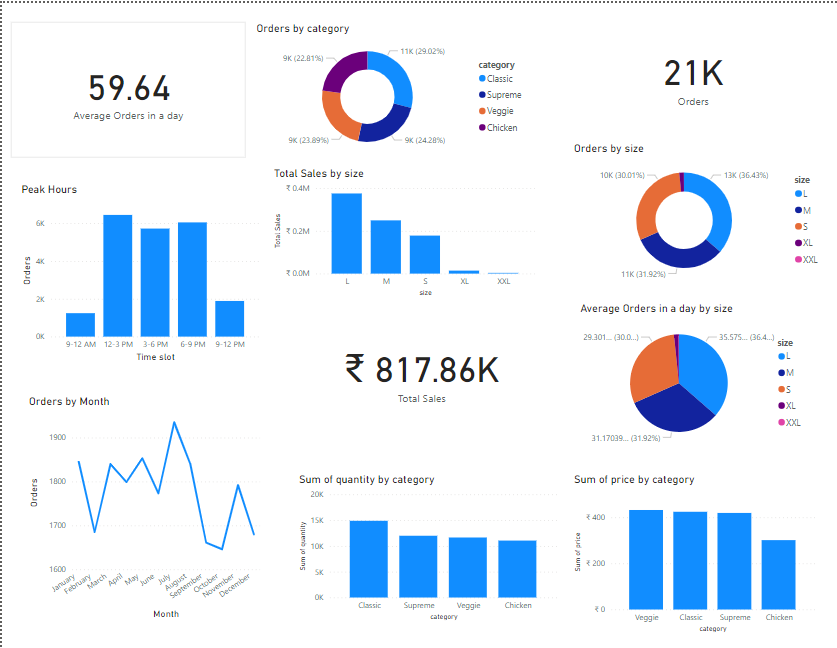

What the dashboard file says about the page in this screenshot:
{"tool":"powerbi","page":{"name":"Pizza Sales Report","canvas":[1288,1000],"ordinal":0},"visuals":[{"type":"columnChart","title":"Peak Hours","fields":{"Y":["All Measures.Orders"],"Category":["orders.Time slot"]},"box":[24.3,277.1,377.1,280],"z":0},{"type":"lineChart","fields":{"Category":["orders.date.Variation.Date Hierarchy.Month"],"Y":["All Measures.Orders"]},"box":[35.7,602.9,365.7,351.4],"z":1000},{"type":"donutChart","fields":{"Y":["All Measures.Orders"],"Category":["pizza_types.category"]},"box":[386.3,28.1,426.6,211.5],"z":2000},{"type":"donutChart","fields":{"Y":["All Measures.Orders"],"Series":["pizzas.size"]},"box":[874.3,212.9,394.3,222.9],"z":3000},{"type":"columnChart","fields":{"Y":["All Measures.Total Sales"],"Category":["pizzas.size"]},"box":[414.4,251.1,411.7,204.5],"z":4000},{"type":"pieChart","fields":{"Category":["pizzas.size"],"Y":["All Measures.Average Orders in a day"]},"box":[884.3,460,358.6,231.4],"z":5000},{"type":"columnChart","fields":{"Category":["pizza_types.category"],"Y":["Sum(order_details.quantity)"]},"box":[451.4,722.9,408.6,231.4],"z":6000},{"type":"columnChart","fields":{"Y":["Sum(pizzas.price)"],"Category":["pizza_types.category"]},"box":[874.3,722.9,380,250],"z":7000},{"type":"card","fields":{"Values":["All Measures.Total Sales"]},"box":[451.4,475.7,388.6,187.1],"z":8000},{"type":"card","fields":{"Values":["All Measures.Orders"]},"box":[860,28.6,408.6,165.7],"z":9000},{"type":"card","fields":{"Values":["All Measures.Average Orders in a day"]},"box":[12.9,28.6,361.4,210],"z":10000}]}

Visuals, with their boxes in screenshot pixels (x1, y1, x2, y2), scaled from the page's 1288x1000 canvas onto the 837x648 screenshot:
"Peak Hours" columnChart: x1=16 y1=180 x2=261 y2=361
lineChart - orders.date.Variation.Date Hierarchy.Month x All Measures.Orders: x1=23 y1=391 x2=261 y2=618
donutChart - All Measures.Orders x pizza_types.category: x1=251 y1=18 x2=528 y2=155
donutChart - All Measures.Orders x pizzas.size: x1=568 y1=138 x2=824 y2=282
columnChart - All Measures.Total Sales x pizzas.size: x1=269 y1=163 x2=537 y2=295
pieChart - pizzas.size x All Measures.Average Orders in a day: x1=575 y1=298 x2=808 y2=448
columnChart - pizza_types.category x Sum(order_details.quantity): x1=293 y1=468 x2=559 y2=618
columnChart - Sum(pizzas.price) x pizza_types.category: x1=568 y1=468 x2=815 y2=630
card - All Measures.Total Sales: x1=293 y1=308 x2=546 y2=429
card - All Measures.Orders: x1=559 y1=19 x2=824 y2=126
card - All Measures.Average Orders in a day: x1=8 y1=19 x2=243 y2=155
